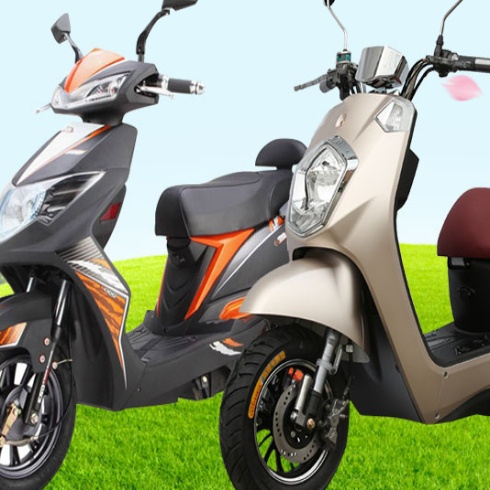non-vehicle: (1, 39, 309, 490), (218, 32, 490, 489)
